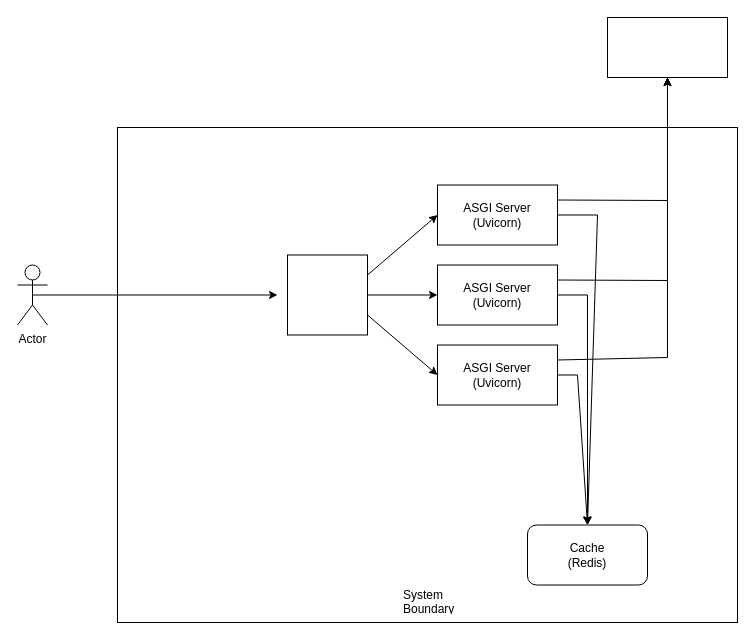
This 755x640 diagram has some shape labels left out. The shapes that lost their labels are listed below. From the top down, each one's centre as x and y in pixels, then its label:
At point (667, 47): "External sites".
At point (327, 294): "Process Manager (Gunicorn)".
